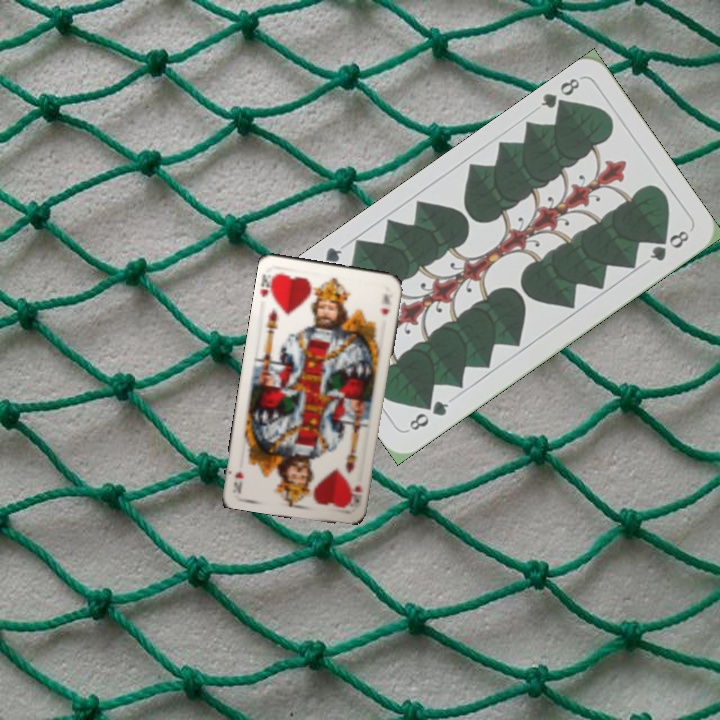G8: (536, 73, 583, 116), (405, 396, 452, 434)
HK: (256, 270, 279, 304), (345, 481, 366, 506)
